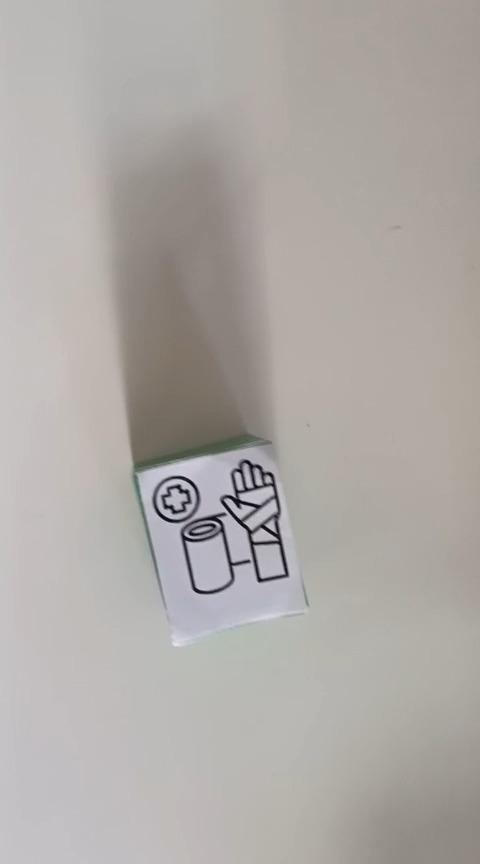Bandages: (132, 432, 309, 647)
